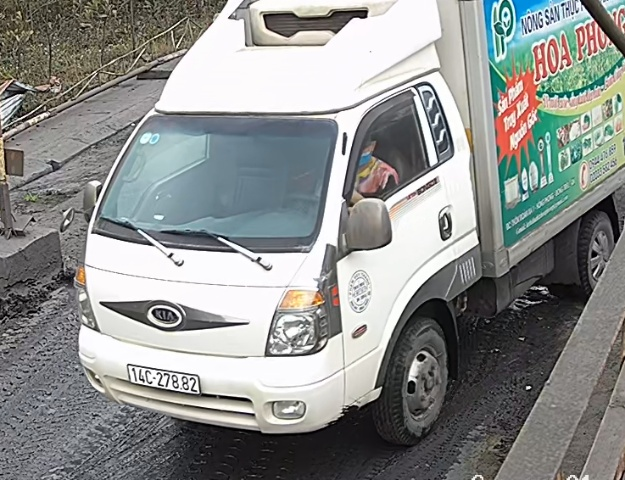vehicle plate: (121, 360, 202, 397)
